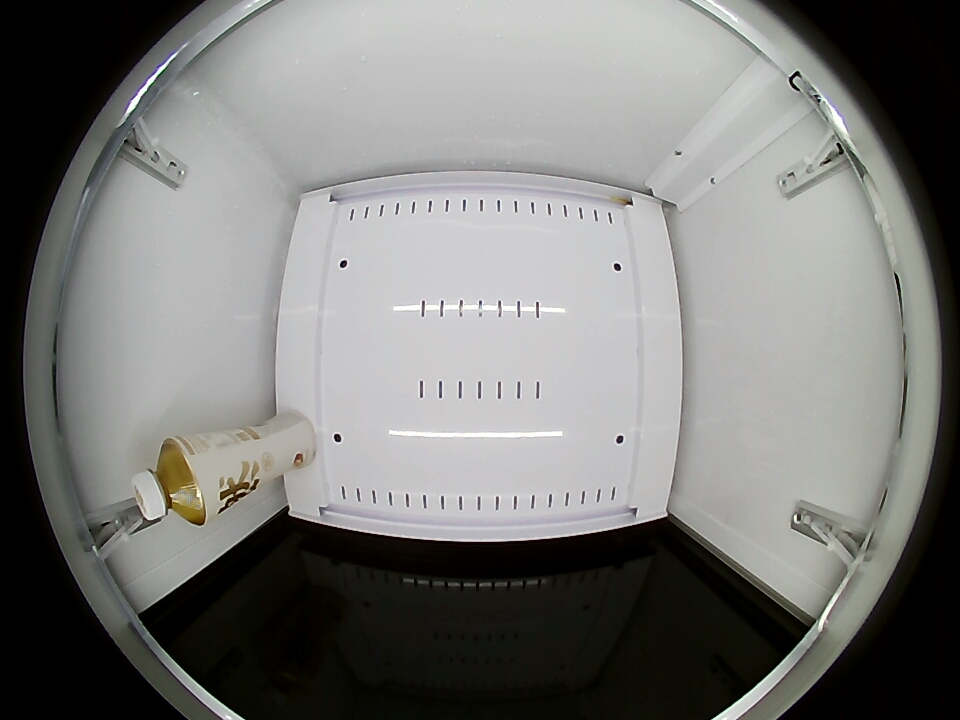rancha-2: (132, 436, 213, 525)
